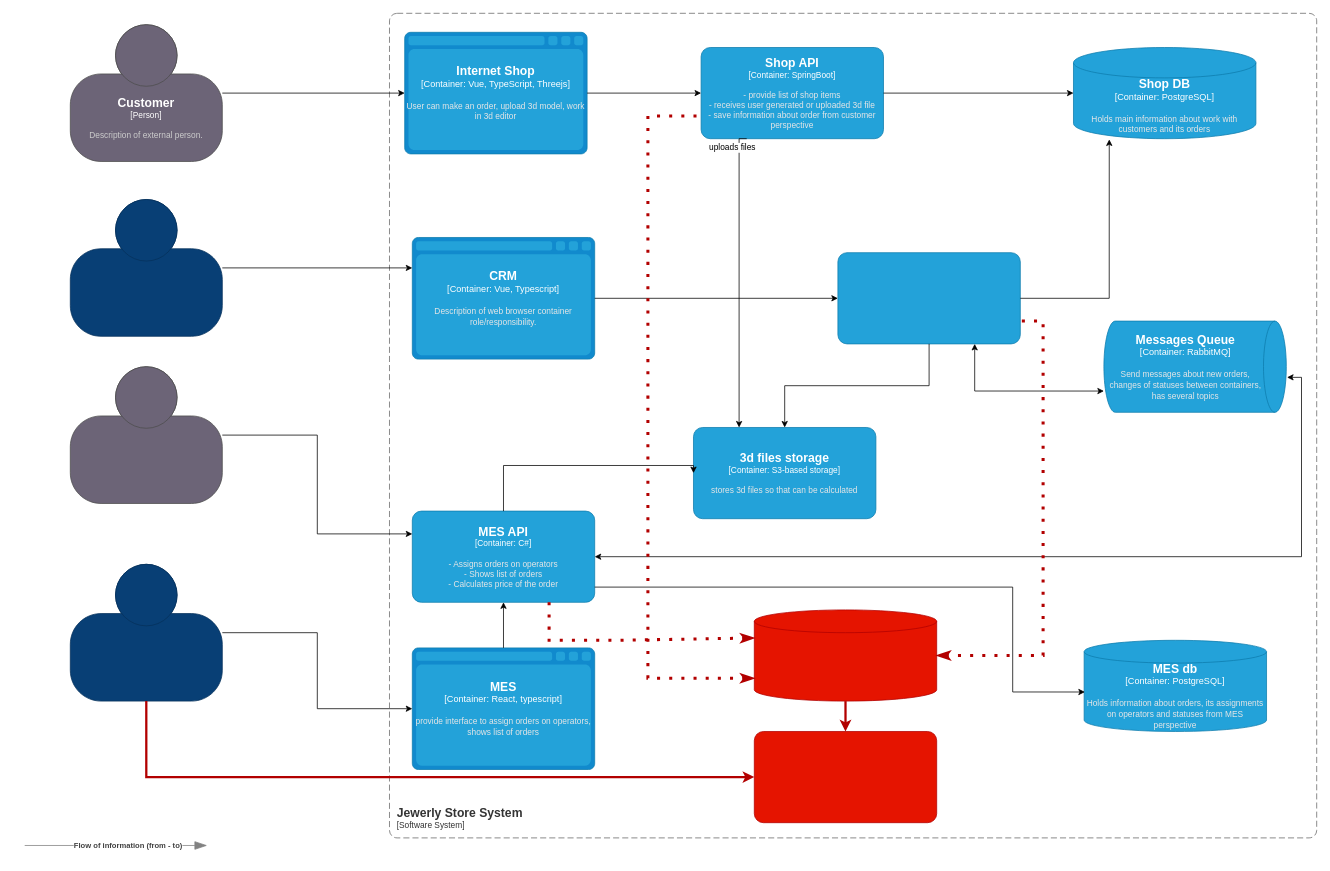
Image size: 1330x871. Some labels were removed from this diagram. Each missing label, with the centre of its shape:
"API user [Person] Description of external person." belongs at pixel 146 435.
"CRM API [Container: SpringBoot] Description of container role/responsibility." belongs at pixel 928 298.
"Jaeger db [Container: Jaeger] Holds information about API calls traces" belongs at pixel 845 655.
"Jaeger UI [Container: JS] UI for Jaeger" belongs at pixel 845 777.
"Operator [Person] Takes order in work, manufactures jewerly" belongs at pixel 146 632.
"Seller [Person] Operates with order, confirms manufacturing for the user" belongs at pixel 146 267.
